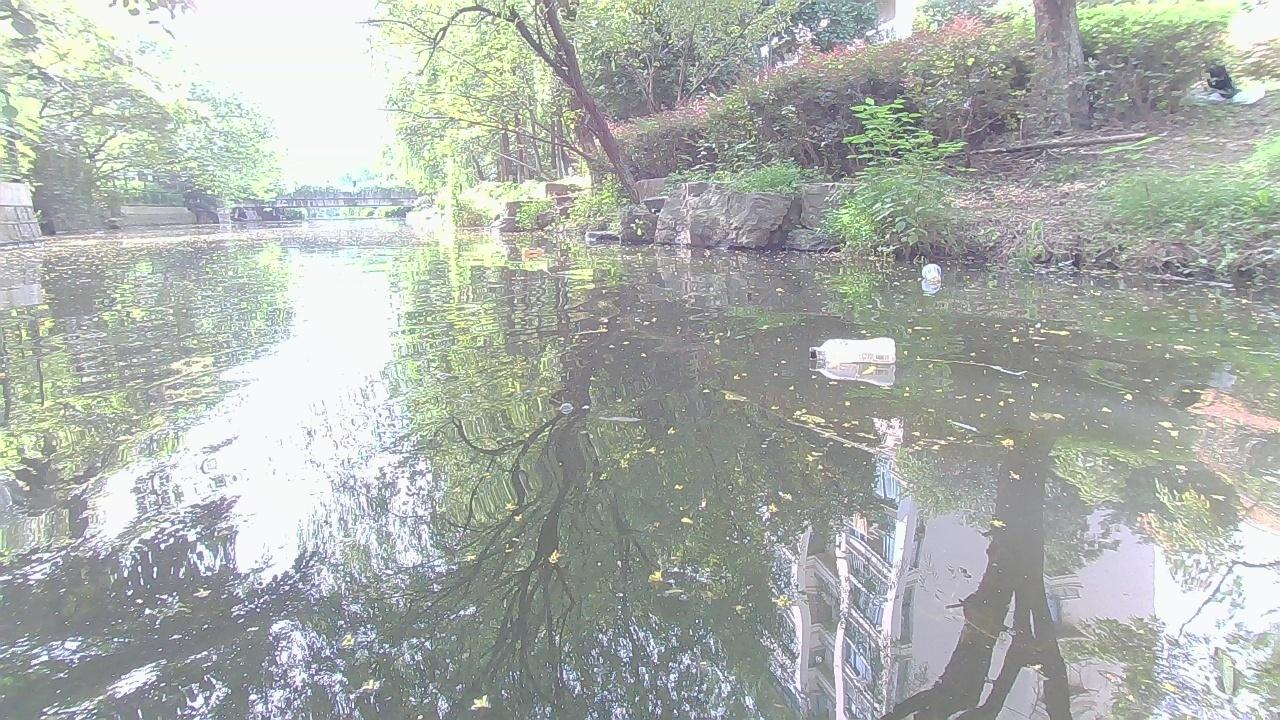bottle: (803, 337, 898, 368), (919, 264, 942, 284), (519, 245, 546, 262)
